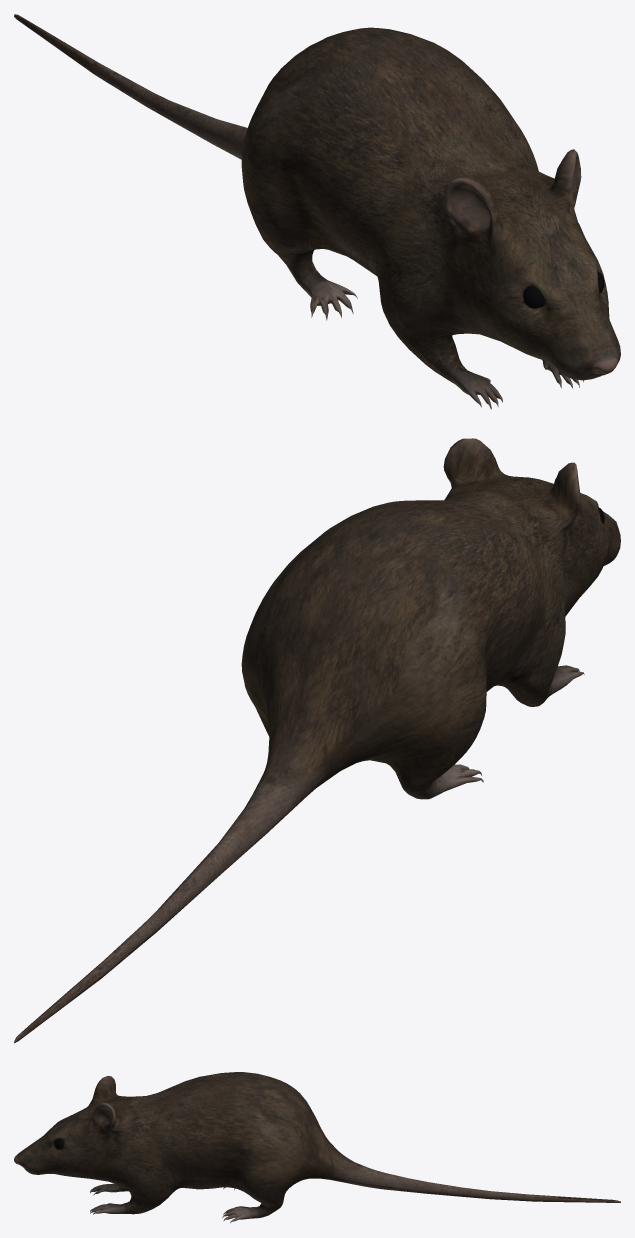
The model's file is street_rat.glb.
3 views of the same model, one above another, from view 1: azimuth 30°, elevation 25°; view 2: azimuth 150°, elevation 25°; view 3: azimuth 270°, elevation 25° (orthographic). The views are drawn at different scales.
Parts seen in each view (by area): view 1: street_rat; view 2: street_rat; view 3: street_rat.
Boxes of the visible parts, x1,y1,x2,y2 form: street_rat: [14, 14, 620, 409]; street_rat: [14, 438, 620, 1043]; street_rat: [14, 1072, 620, 1223].
Bounding box in the file's own units: 0.032 × 0.0338 × 0.1483.
Materials: 1 (1 with a texture image).
